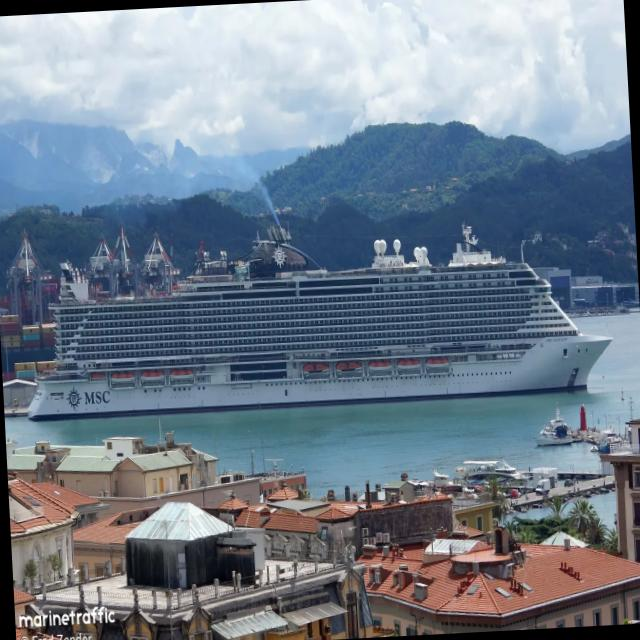Cruise: (28, 223, 611, 420)
